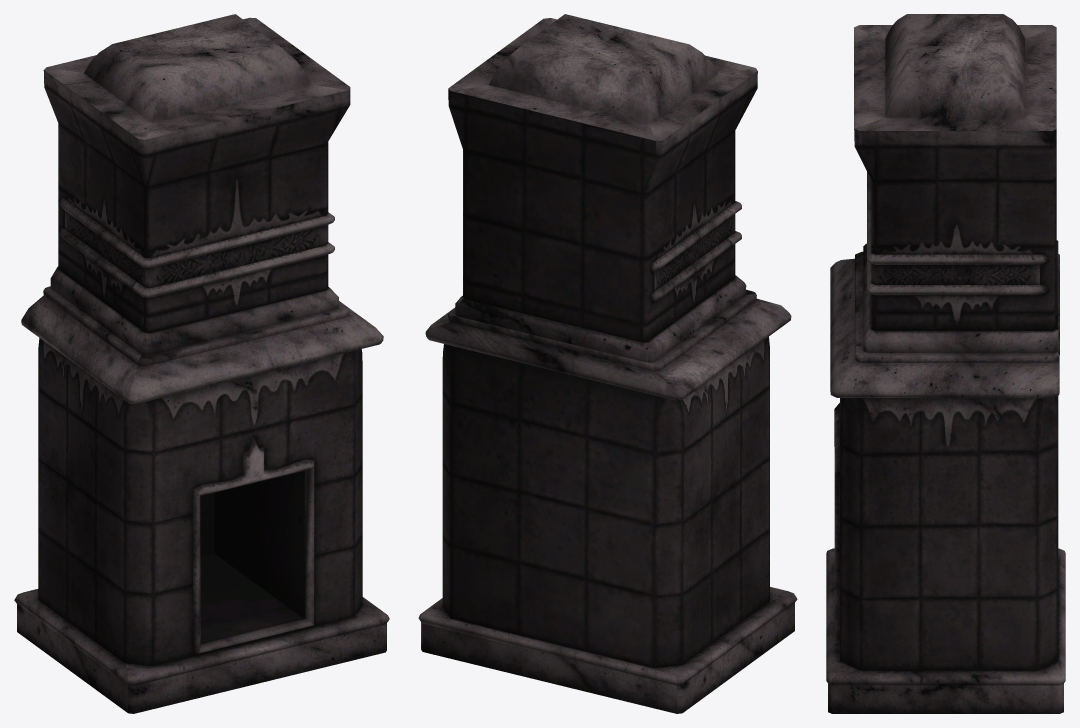
The model's file is 42_stove_front01.dae.
3 views of the same model, side by side, from view 1: azimuth 30°, elevation 25°; view 2: azimuth 150°, elevation 25°; view 3: azimuth 270°, elevation 25° (orthographic). The views are drawn at different scales.
Visible parts, largest first — view 1: stove_front01_mesh; view 2: stove_front01_mesh; view 3: stove_front01_mesh.
Boxes of the visible parts, x1,y1,x2,y2 form: stove_front01_mesh: (14, 14, 389, 713); stove_front01_mesh: (418, 14, 797, 713); stove_front01_mesh: (826, 14, 1065, 713).
Bounding box in the file's own units: 1.64 × 3.53 × 1.27.
